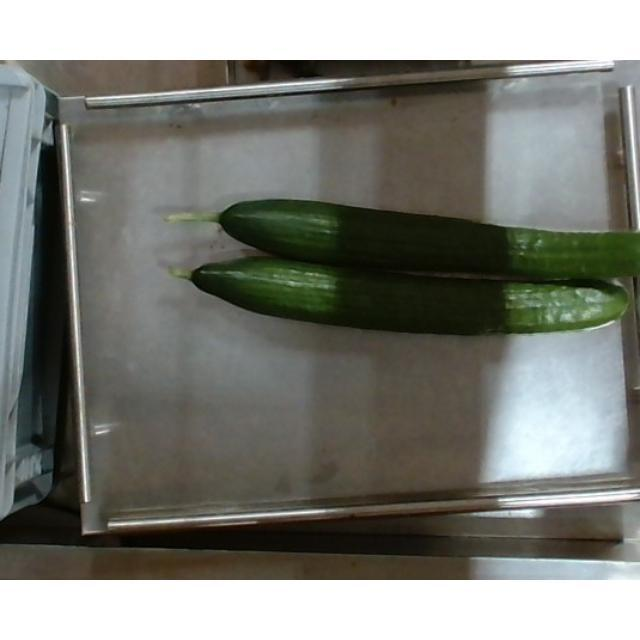cucumber: (166, 195, 640, 278), (159, 256, 629, 336)
